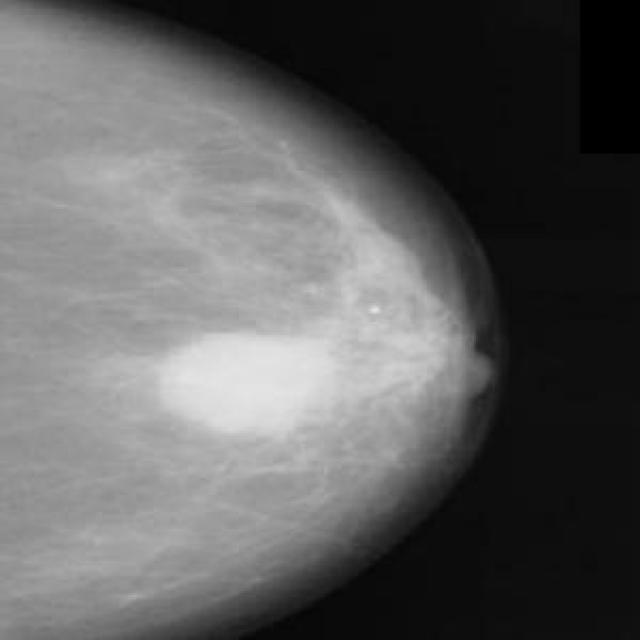tumor: (152, 318, 340, 454), (356, 224, 461, 412)
